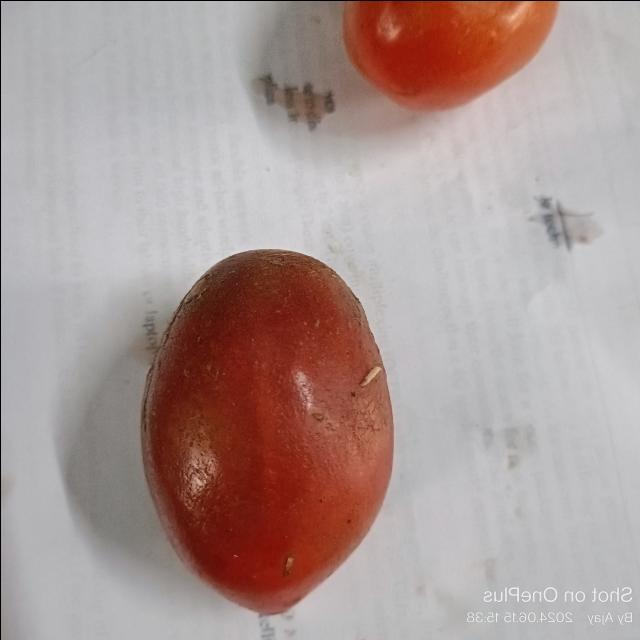Botrytis: (282, 553, 292, 575), (310, 410, 324, 420)
